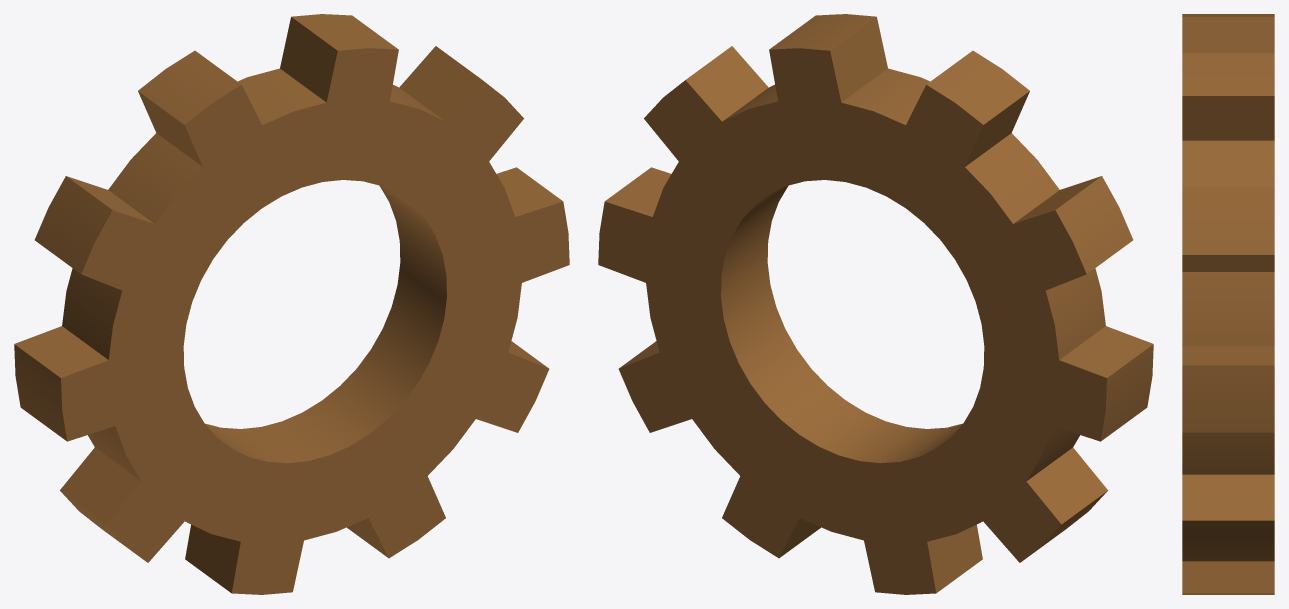
The model's file is vault-gear.glb.
3 renders of one model, left to right at view 1: azimuth 30°, elevation 25°; view 2: azimuth 150°, elevation 25°; view 3: azimuth 270°, elevation 25°, orthographic.
Visible parts, largest first — view 1: Collectible_Gear; view 2: Collectible_Gear; view 3: Collectible_Gear.
Part boxes in pixels (left/top/right/bottom): Collectible_Gear: left=14, top=14, right=569, bottom=594; Collectible_Gear: left=598, top=14, right=1153, bottom=594; Collectible_Gear: left=1182, top=14, right=1274, bottom=594.
Size of the model in its own units: 0.4017 by 0.4002 by 0.0638.
